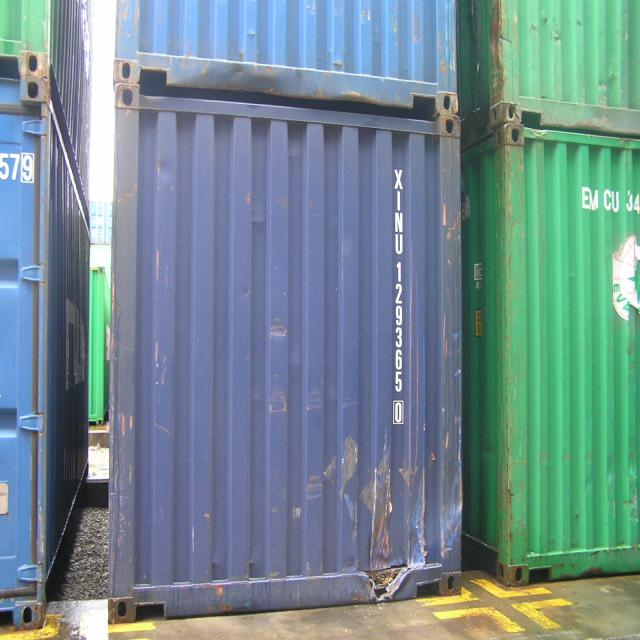dent: (368, 449, 432, 568), (154, 150, 181, 181), (265, 317, 292, 345)
